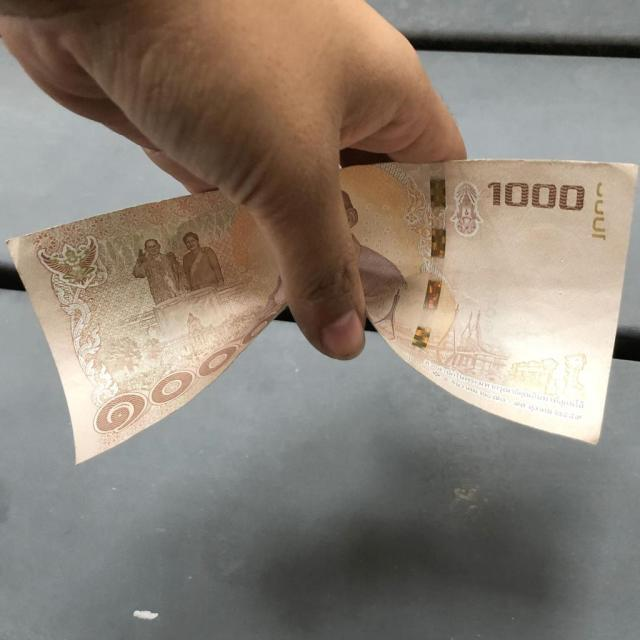THAI1000: (341, 159, 638, 443), (8, 194, 286, 462)
